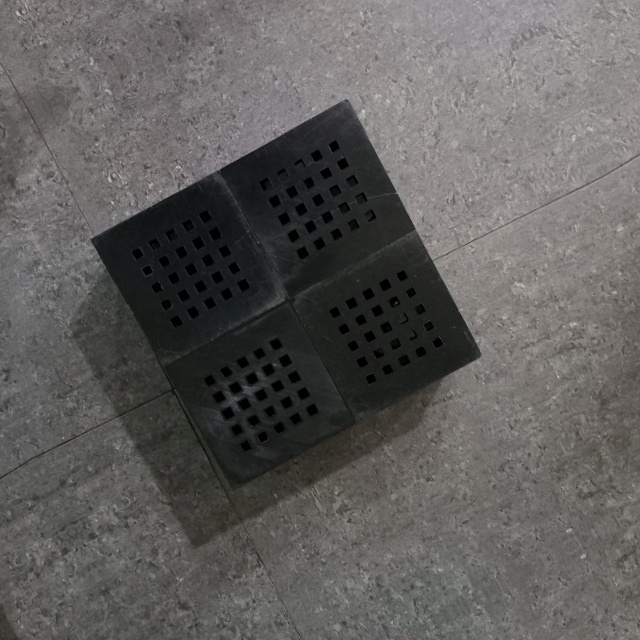pallet: (80, 86, 485, 495)
